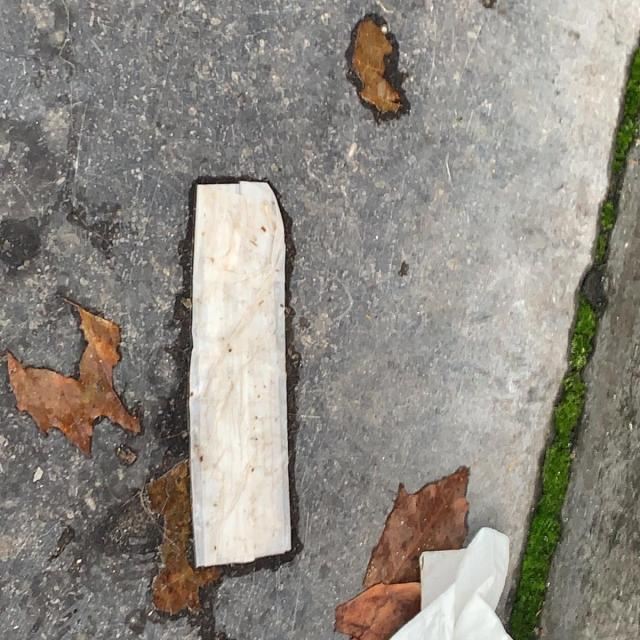Paper: (188, 178, 296, 568), (387, 525, 515, 640)
